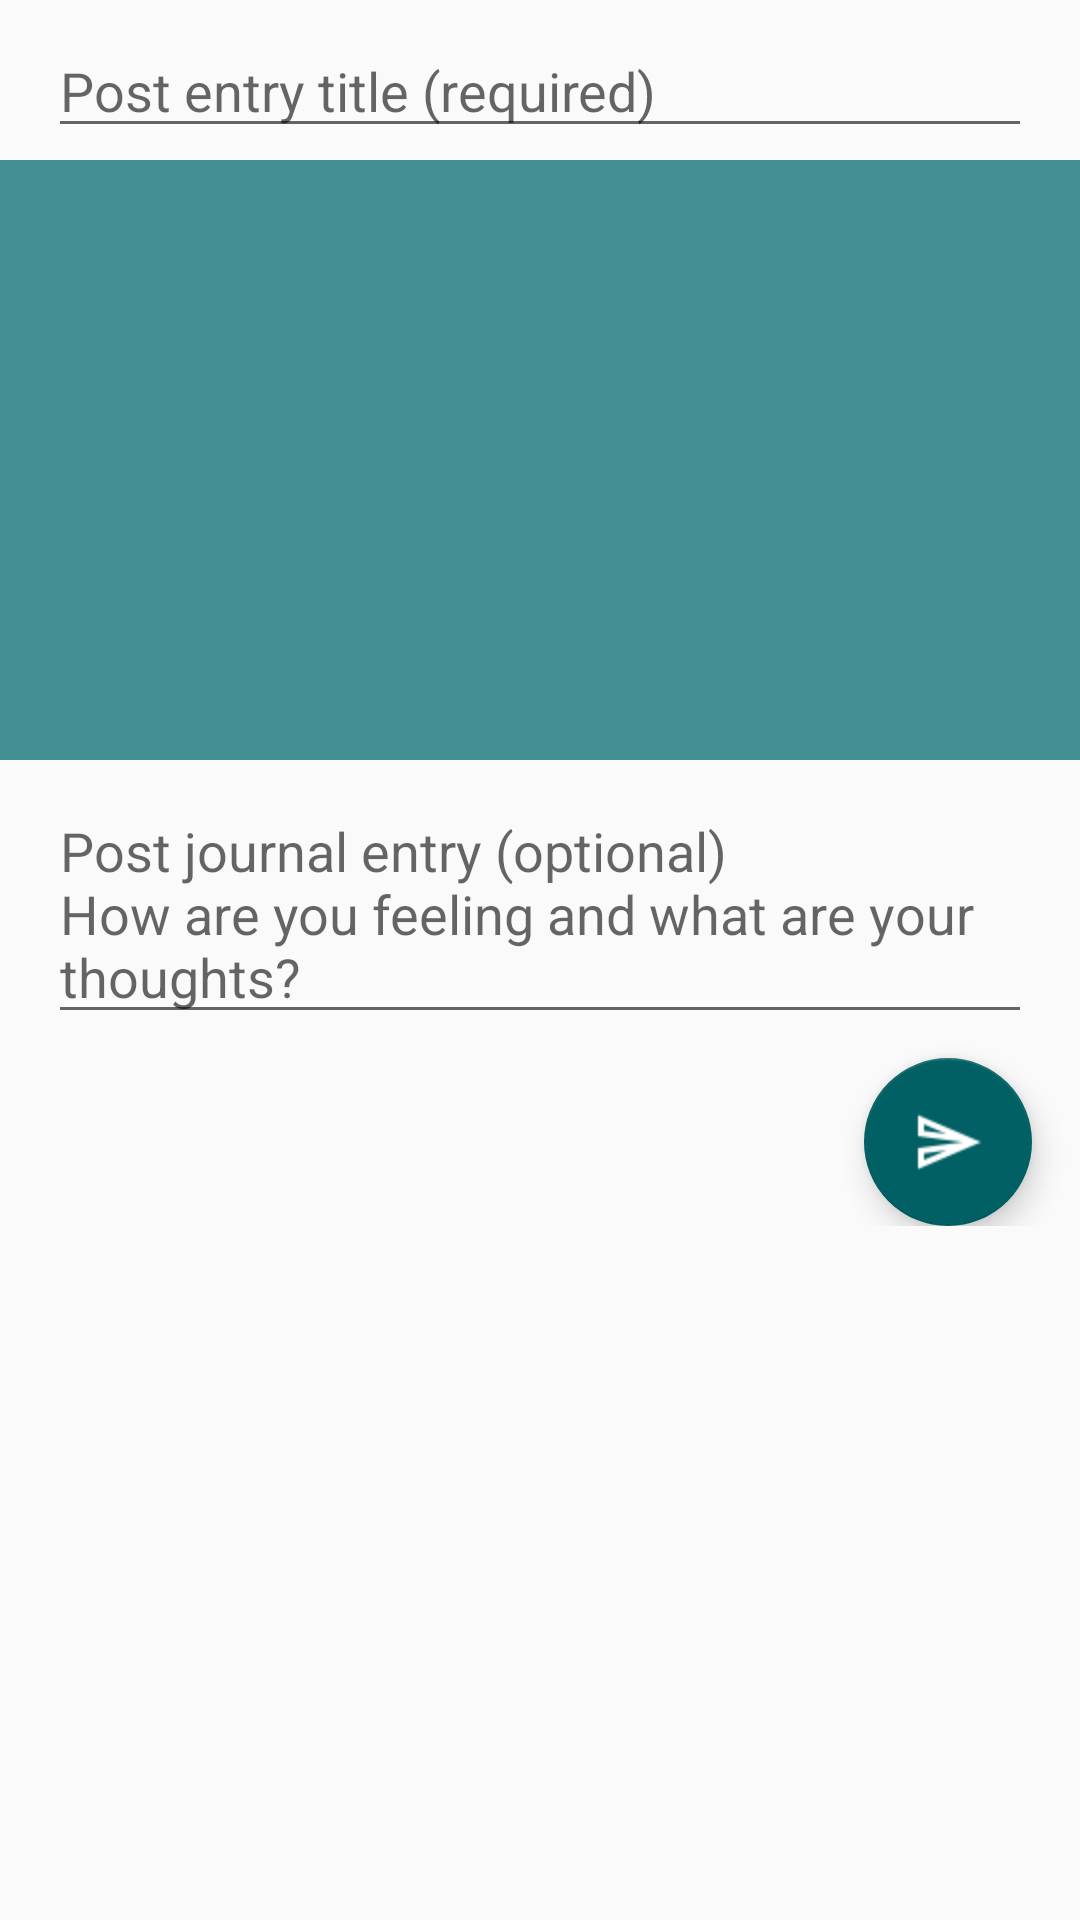

Icons on this 1080*1920 Android screen, each with its box as (x1, y1, x2, y2):
send: (864, 1058, 1032, 1226)
